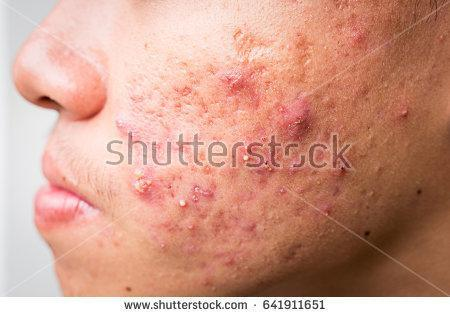fore: (282, 107, 308, 135), (222, 73, 243, 97), (254, 152, 273, 176), (172, 84, 193, 105), (391, 100, 413, 120), (209, 208, 236, 224), (327, 157, 347, 177), (126, 126, 148, 144), (344, 29, 363, 47), (315, 201, 335, 218), (197, 183, 218, 199), (196, 277, 217, 292), (272, 183, 293, 198), (283, 158, 302, 174), (134, 176, 149, 195), (250, 92, 266, 109), (239, 217, 257, 231), (236, 148, 251, 164), (185, 241, 199, 257), (179, 221, 196, 234), (221, 252, 235, 267), (158, 238, 171, 253), (325, 90, 337, 106), (359, 83, 372, 97), (131, 162, 144, 175), (117, 117, 126, 135), (156, 217, 168, 230), (171, 196, 184, 207)
